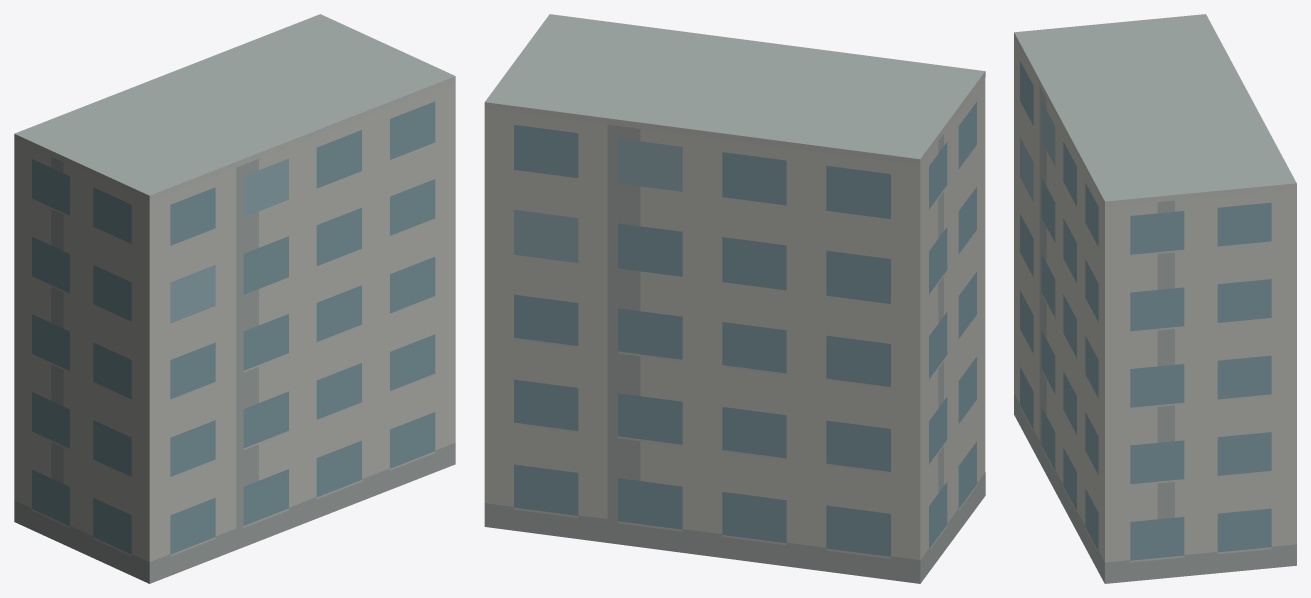
File: survey-upis-32644025.glb
3 views of the same model, side by side, from view 1: azimuth 30°, elevation 25°; view 2: azimuth 150°, elevation 25°; view 3: azimuth 270°, elevation 25° (orthographic). The views are drawn at different scales.
Visible parts, largest first — view 1: survey-upis-32644025.tmp; view 2: survey-upis-32644025.tmp; view 3: survey-upis-32644025.tmp.
Part boxes in pixels (left/top/right/bottom): survey-upis-32644025.tmp: left=14, top=14, right=455, bottom=583; survey-upis-32644025.tmp: left=484, top=14, right=985, bottom=583; survey-upis-32644025.tmp: left=1014, top=14, right=1296, bottom=583.
Size of the model in its own units: 17.36 by 16.5 by 11.07.
